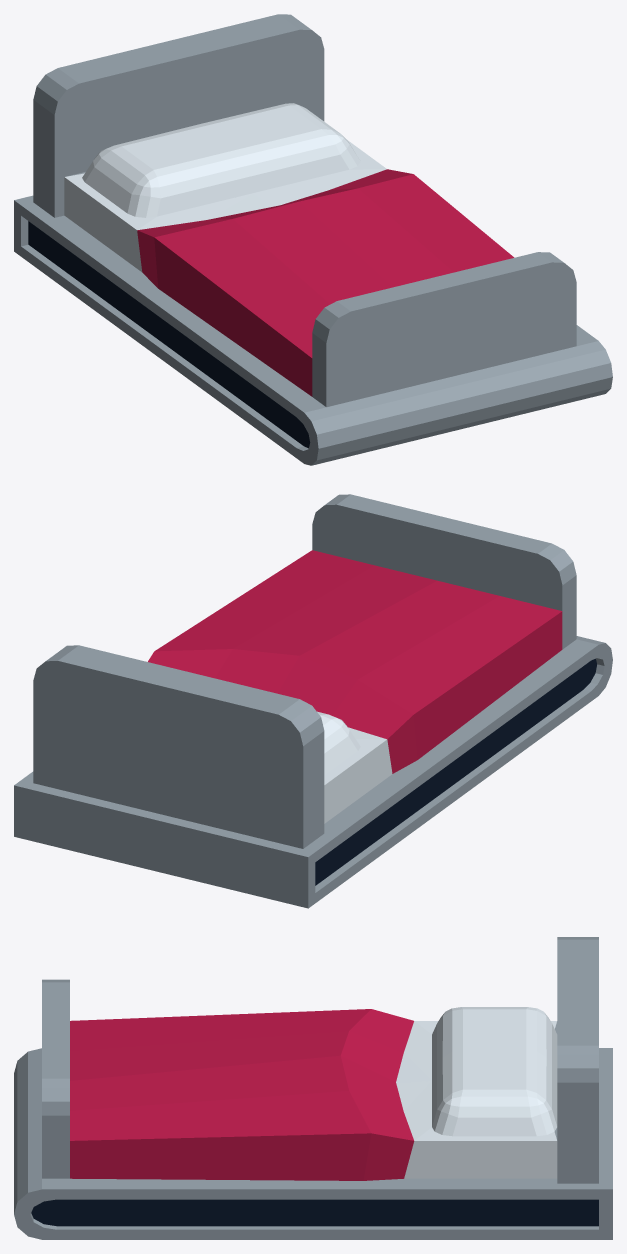
Rendered from bed.fbx.
3 views of the same model, one above another, from view 1: azimuth 30°, elevation 25°; view 2: azimuth 150°, elevation 25°; view 3: azimuth 270°, elevation 25° (orthographic).
Parts seen in each view (by area): view 1: Cube; view 2: Cube; view 3: Cube.
Part boxes in pixels (x1,y1,x2,y2): Cube: [14, 14, 612, 465]; Cube: [14, 494, 612, 908]; Cube: [14, 937, 612, 1239].
Bounding box in the file's own units: 1.2 × 0.7 × 2.15.
